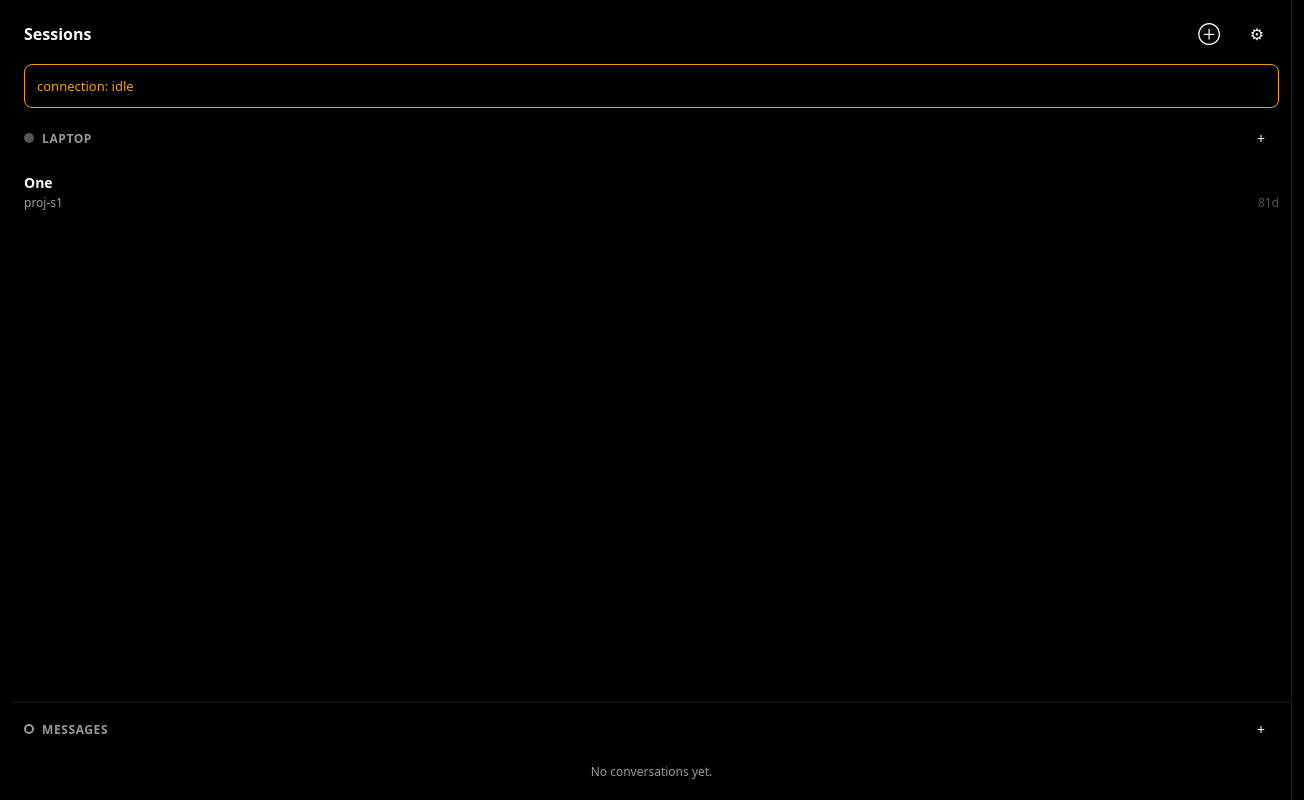
Test: swipe-to-delete on session cards › ≥80px swipe slides out, deletes the card, and shows the undo toast
Press the mouse on the button with test id "session-card" at [43, 203], box [12,160,1291,224]
Wait 200 ms
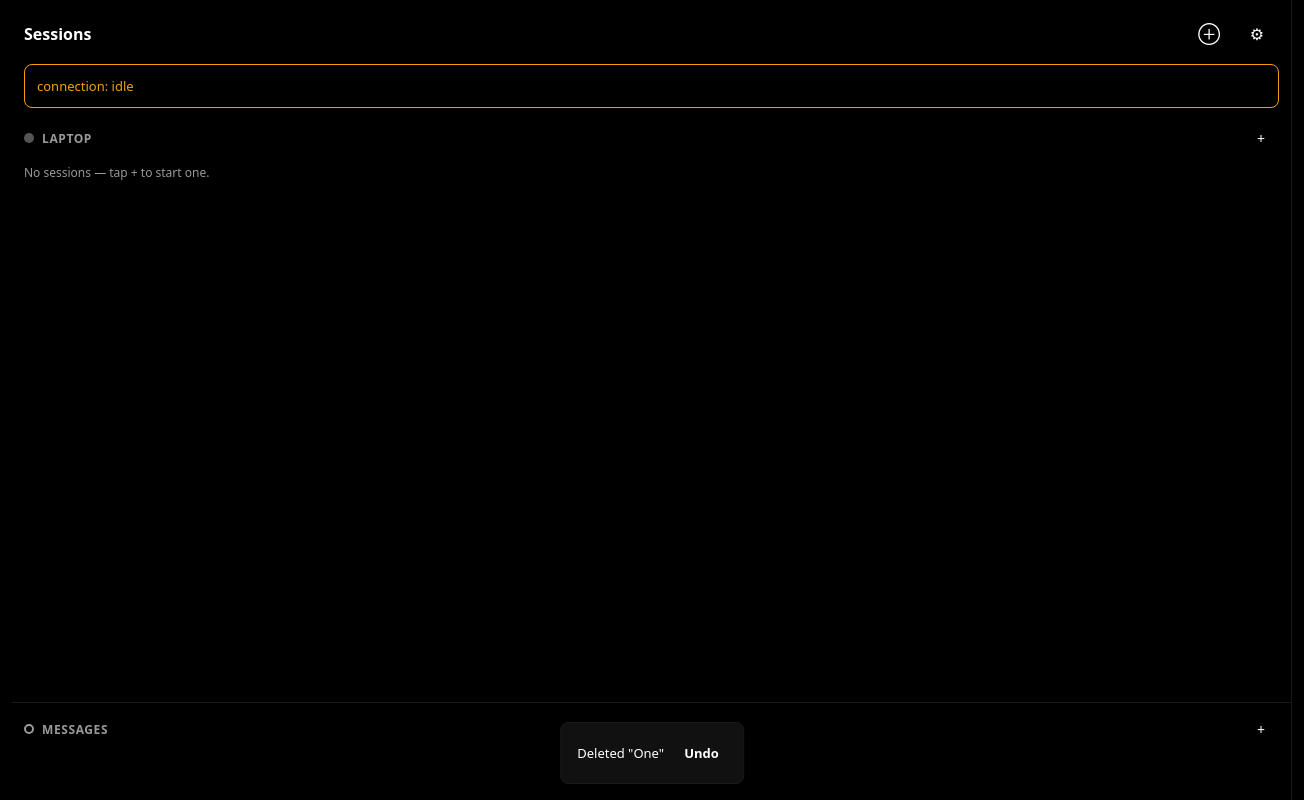
Check: the button with test id "session-card" is gone
Check: the element with test id "undo-toast" shows "Deleted \"One\"", box [560,722,744,784]
